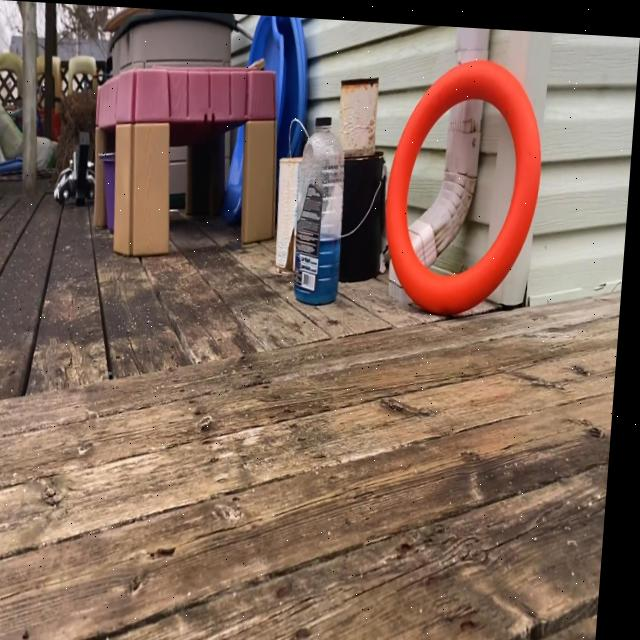note: (379, 47, 551, 316)
